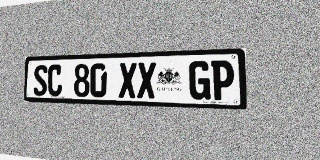0: (90, 63, 107, 97)
8: (74, 64, 90, 97)
C: (47, 64, 62, 96)
G: (189, 61, 210, 100)
P: (211, 60, 234, 101)
S: (33, 65, 48, 96)
X: (137, 62, 156, 99), (119, 62, 137, 98)
